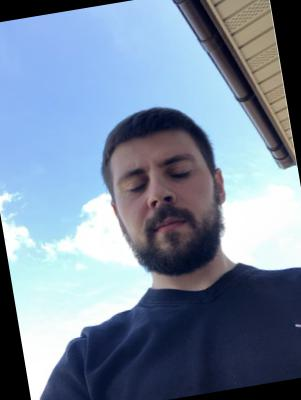without_mask: (110, 141, 228, 283)
